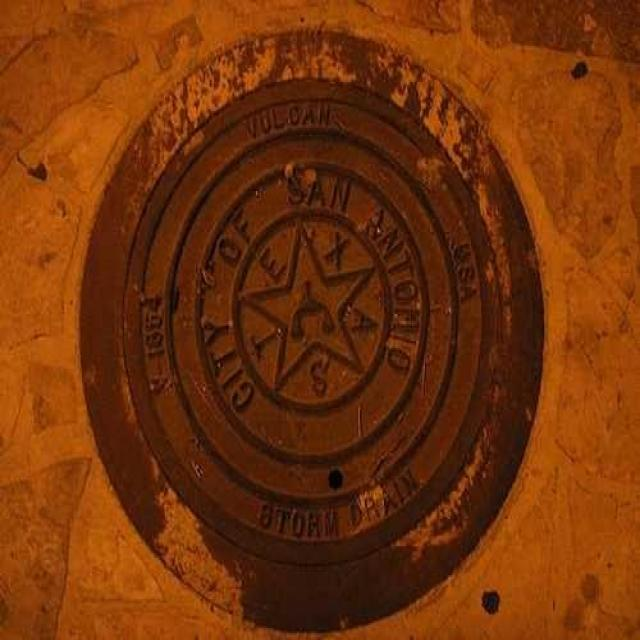manhole: (122, 82, 490, 568)
